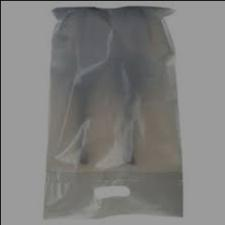Plastic: (45, 3, 189, 222)
